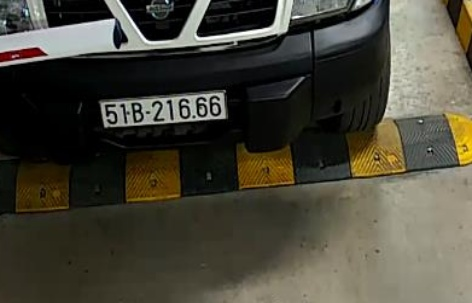plate: (98, 93, 230, 129)
